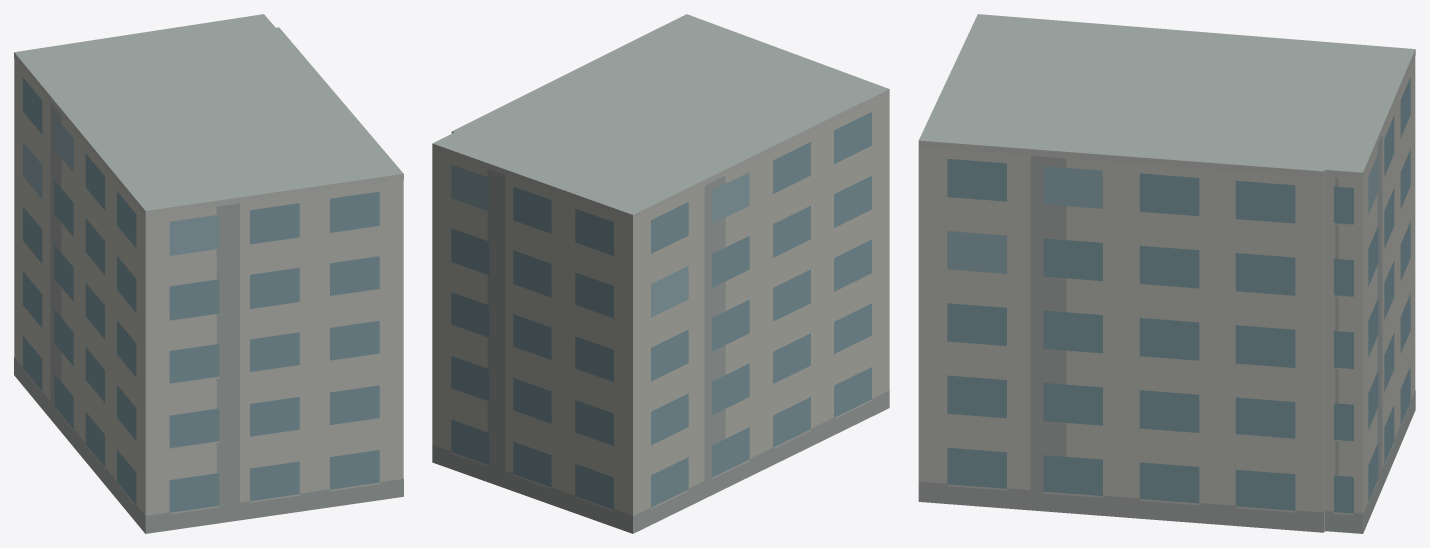
The model's file is survey-upis-32892661.glb.
3 renders of one model, left to right at view 1: azimuth 30°, elevation 25°; view 2: azimuth 150°, elevation 25°; view 3: azimuth 270°, elevation 25°, orthographic. The views are drawn at different scales.
Visible parts, largest first — view 1: survey-upis-32892661.tmp; view 2: survey-upis-32892661.tmp; view 3: survey-upis-32892661.tmp.
Part boxes in pixels (x1,y1,x2,y2): survey-upis-32892661.tmp: (14,14,403,533); survey-upis-32892661.tmp: (432,14,889,533); survey-upis-32892661.tmp: (918,14,1415,533).
Bounding box in the file's own units: 12.44 × 13.2 × 16.46.
